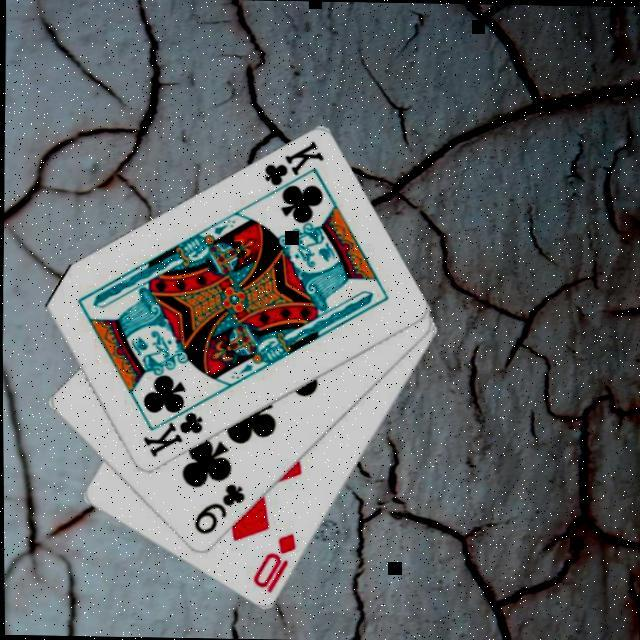10D: (246, 530, 298, 597)
9C: (188, 480, 246, 539)
KC: (137, 397, 204, 462), (258, 138, 325, 203)
